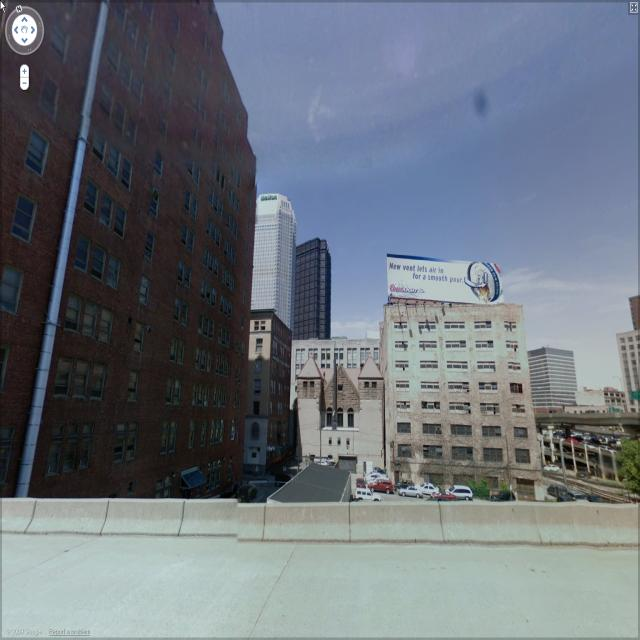b_1: (1, 18, 243, 483), (382, 296, 542, 482), (247, 308, 290, 478), (293, 335, 393, 397), (260, 182, 300, 327), (294, 226, 336, 340), (527, 337, 581, 412), (617, 319, 640, 411), (579, 382, 633, 419)
